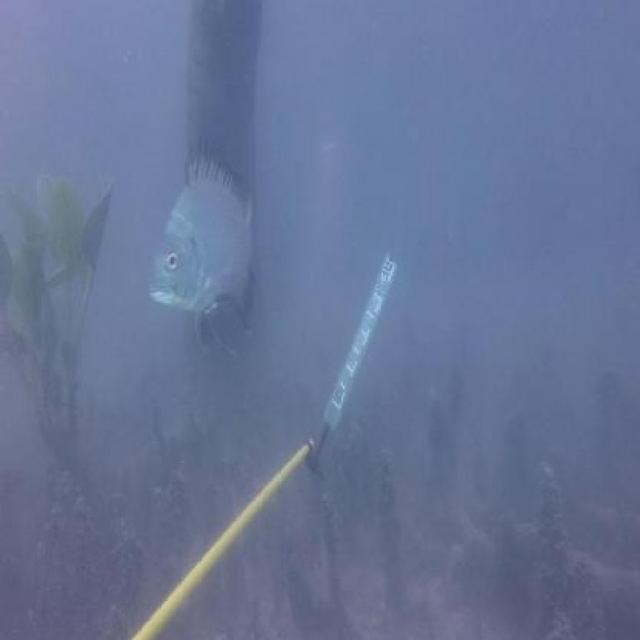acanthopagrus_palmaris: (153, 141, 272, 354)
